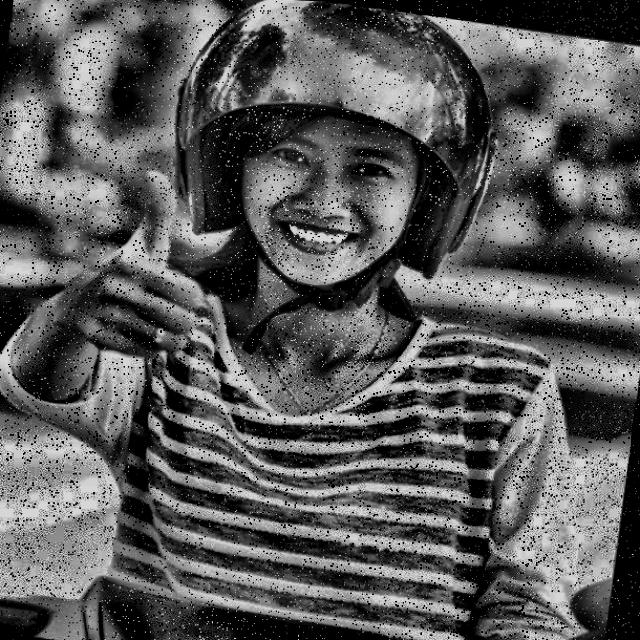Helmet: (142, 0, 519, 338)
